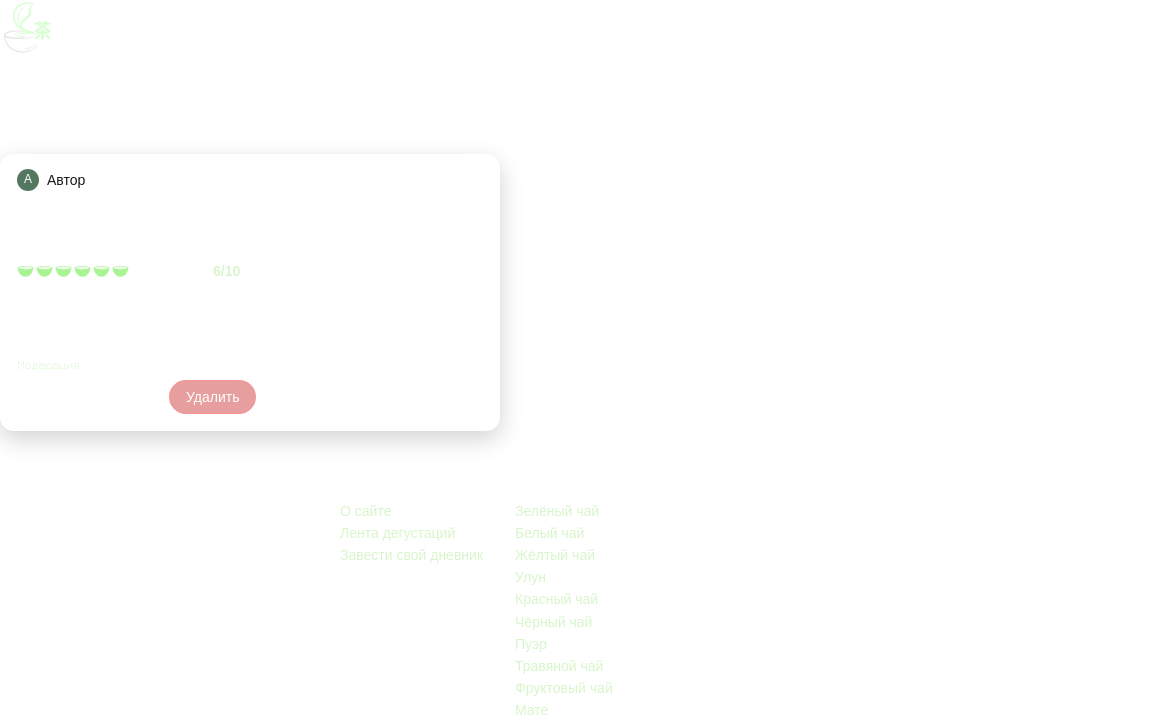
Scenario: a failed action keeps the window open and shows why
The width and height of the screenshot is (1152, 720).
Click the button "Удалить". click: (213, 397)
box: [169,380,256,414]
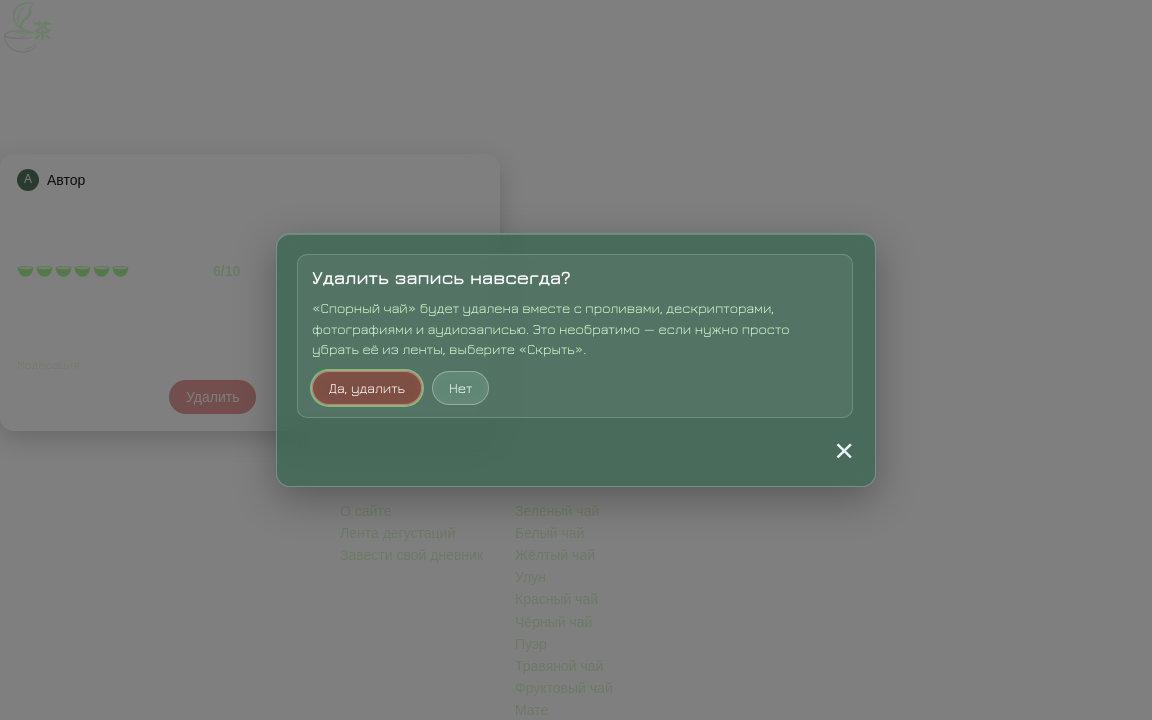
Click the button "Да, удалить". click: (367, 388)
box: [312,371,422,405]
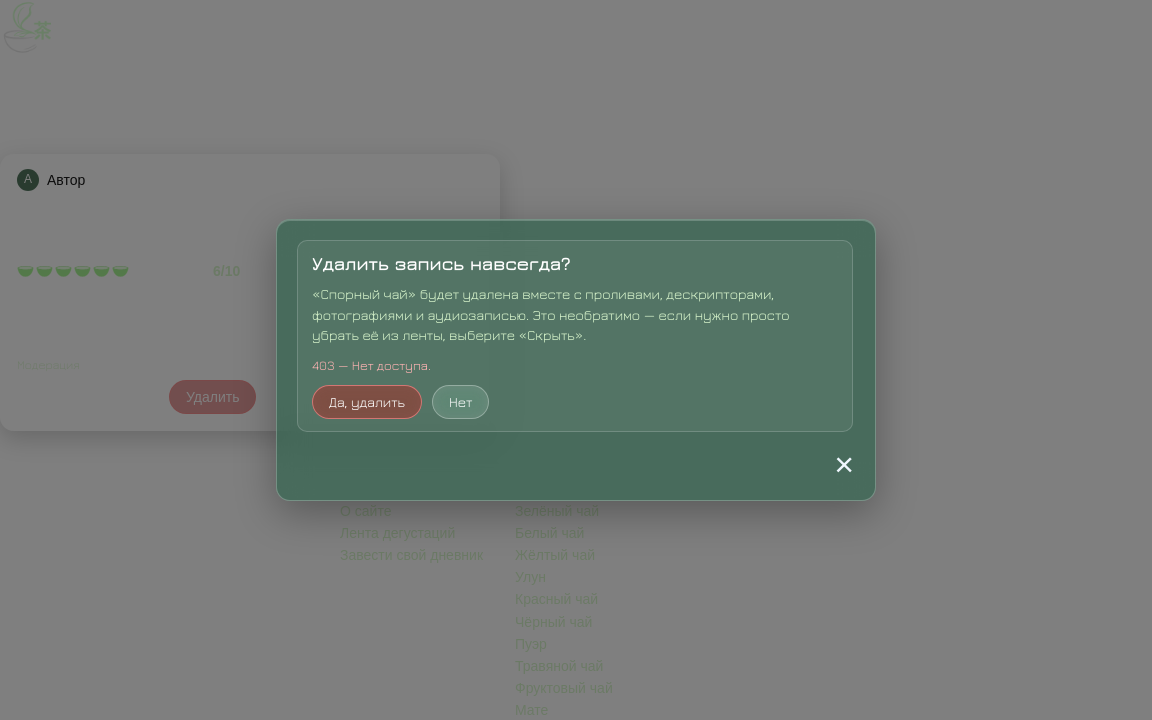
Expected: the heading "Удалить запись навсегда?" is shown, [312,252,571,274]
Expected: the text "403 — Нет доступа." is shown, [312,357,431,373]
